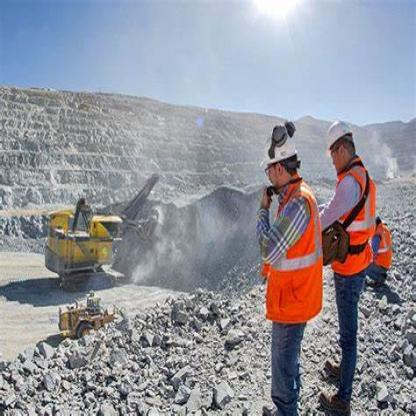person: (321, 102, 396, 403), (254, 101, 323, 415)
